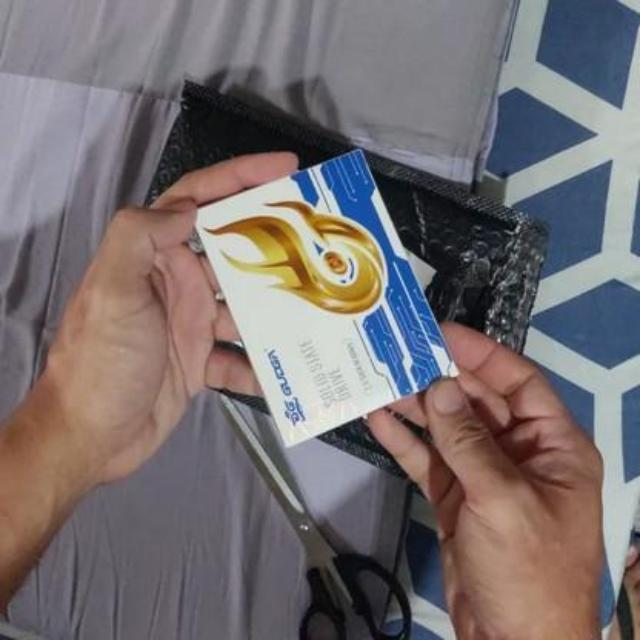DISK: (190, 136, 458, 454)
